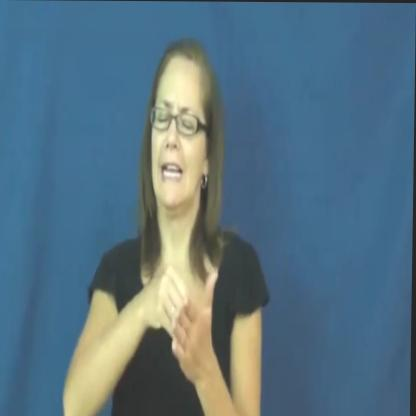Expensive: (126, 199, 233, 407)
